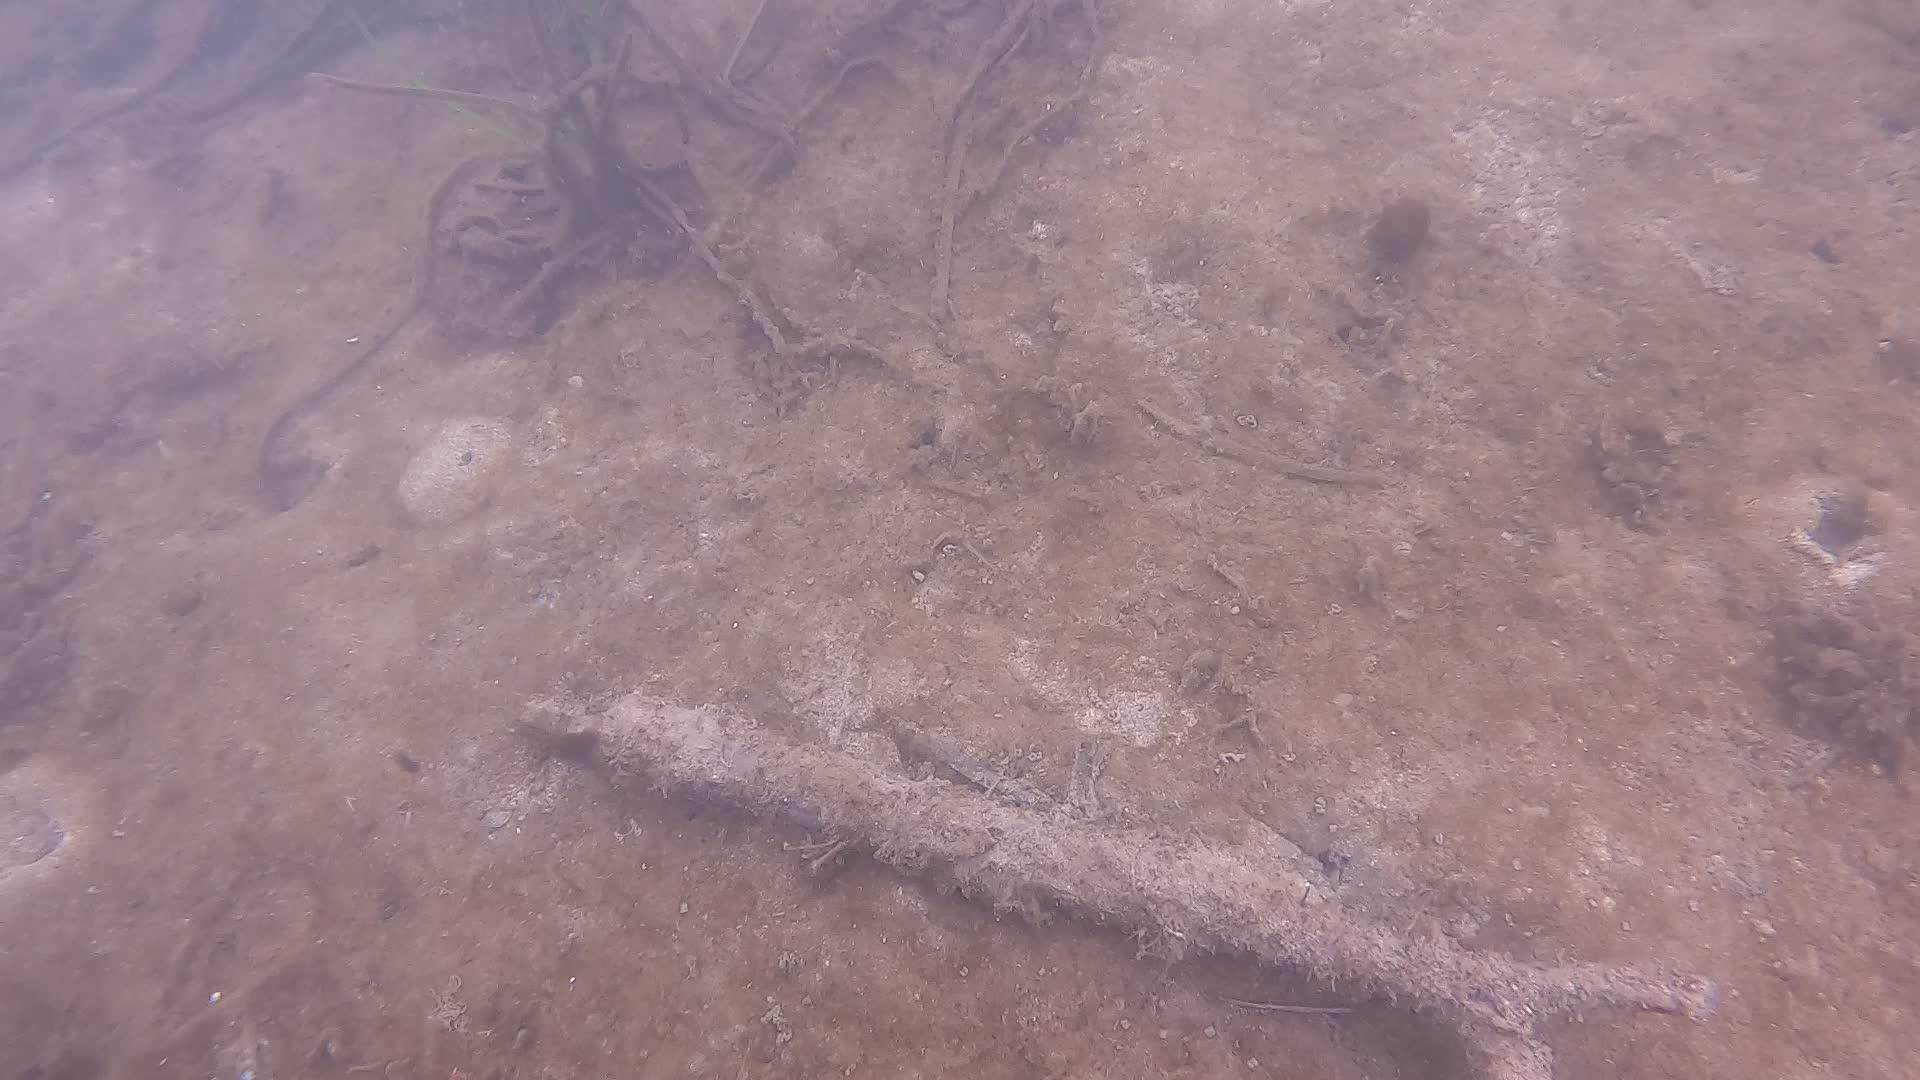wood: (516, 691, 1713, 1080)
